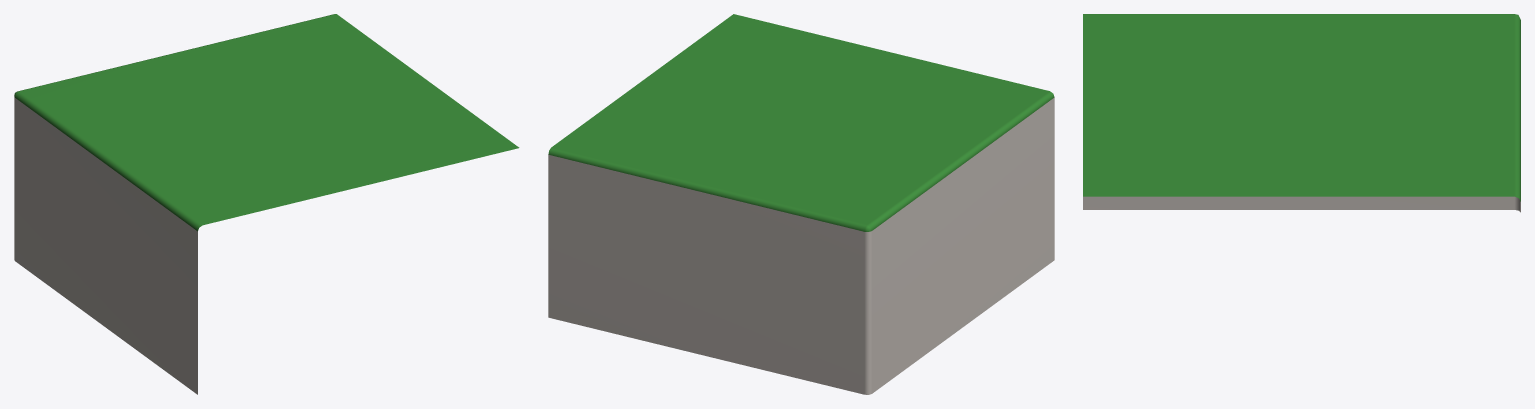
The model's file is cliff_2sided.fbx.
3 views of the same model, side by side, from view 1: azimuth 30°, elevation 25°; view 2: azimuth 150°, elevation 25°; view 3: azimuth 270°, elevation 25° (orthographic). The views are drawn at different scales.
Visible parts, largest first — view 1: Cliff_02; view 2: Cliff_02; view 3: Cliff_02.
Part boxes in pixels (x1,y1,x2,y2): Cliff_02: (14,14,519,394); Cliff_02: (548,14,1054,394); Cliff_02: (1083,14,1520,212).
Size of the model in its own units: 200 by 100 by 200.
